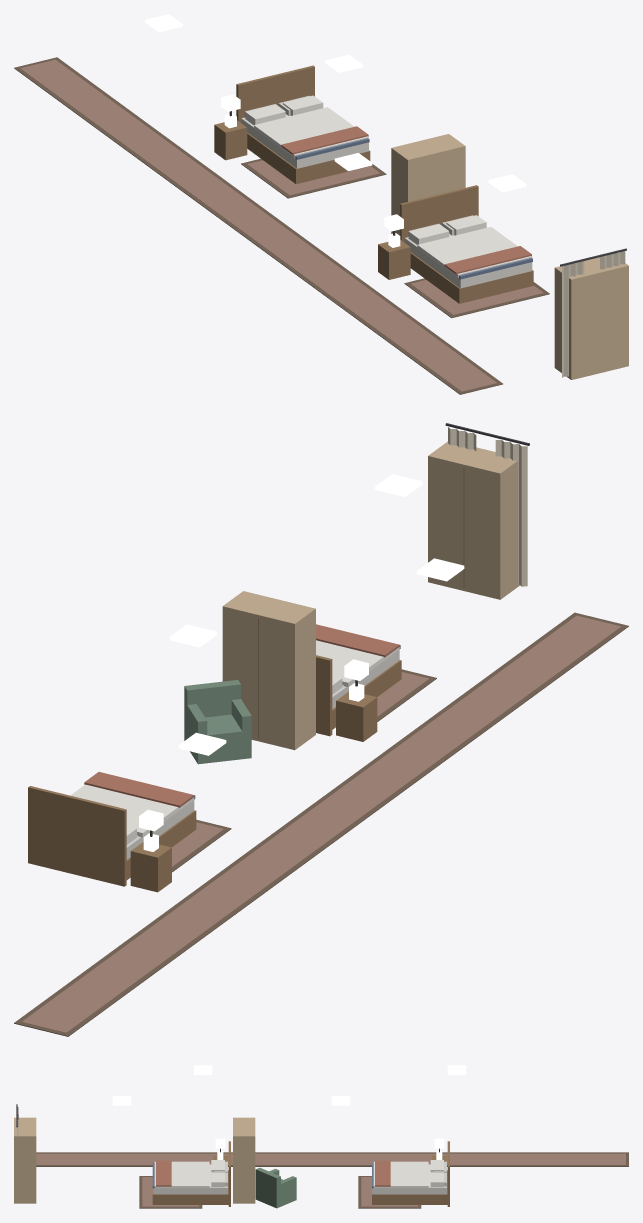
File: fine-s1.glb
3 renders of one model, top to bottom at view 1: azimuth 30°, elevation 25°; view 2: azimuth 150°, elevation 25°; view 3: azimuth 270°, elevation 25°, orthographic. The views are drawn at different scales.
Parts seen in each view (by area): view 1: soft-s1, dresser.001, bed-frame.001, bed-frame.000, dresser.000, nightstand.000, nightstand.001; view 2: soft-s1, dresser.001, dresser.000, bed-frame.000, lounge-chair.000, bed-frame.001, nightstand.001, nightstand.000; view 3: soft-s1, dresser.000, dresser.001, bed-frame.001, bed-frame.000, lounge-chair.000.
Boxes of the visible parts, x1=… form: soft-s1: x1=14, y1=57, x2=626, y2=394; dresser.001: x1=554, y1=254, x2=628, y2=379; bed-frame.001: x1=400, y1=185, x2=533, y2=303; bed-frame.000: x1=236, y1=65, x2=370, y2=184; dresser.000: x1=391, y1=134, x2=465, y2=235; nightstand.000: x1=214, y1=113, x2=247, y2=160; nightstand.001: x1=378, y1=233, x2=410, y2=279; soft-s1: x1=14, y1=423, x2=628, y2=1036; dresser.001: x1=428, y1=441, x2=519, y2=599; dresser.000: x1=222, y1=591, x2=315, y2=750; bed-frame.000: x1=28, y1=786, x2=196, y2=886; lounge-chair.000: x1=184, y1=680, x2=251, y2=764; bed-frame.001: x1=316, y1=645, x2=401, y2=736; nightstand.001: x1=336, y1=683, x2=377, y2=741; nightstand.000: x1=130, y1=833, x2=171, y2=892; soft-s1: x1=16, y1=1104, x2=628, y2=1208; dresser.000: x1=233, y1=1117, x2=255, y2=1203; dresser.001: x1=14, y1=1117, x2=36, y2=1203; bed-frame.001: x1=152, y1=1141, x2=230, y2=1206; bed-frame.000: x1=372, y1=1141, x2=449, y2=1206; lounge-chair.000: x1=255, y1=1167, x2=296, y2=1208.
Bounding box in the file's own units: 3.55 × 2.69 × 16.55.
